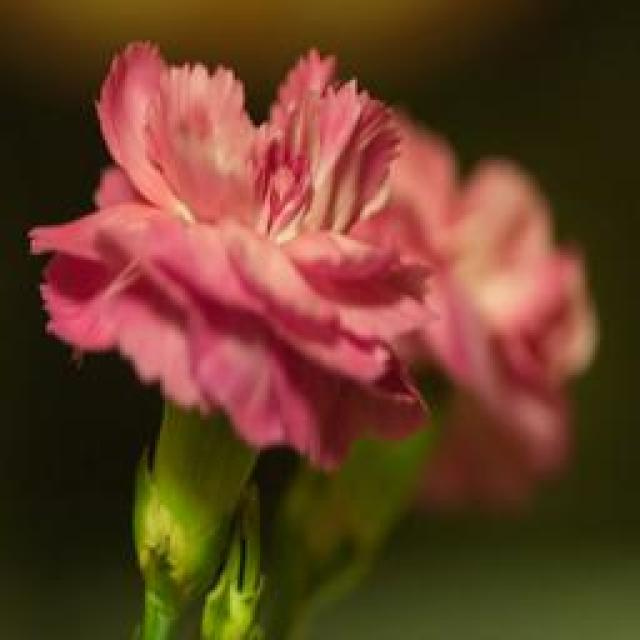carnation: (19, 29, 453, 483)
